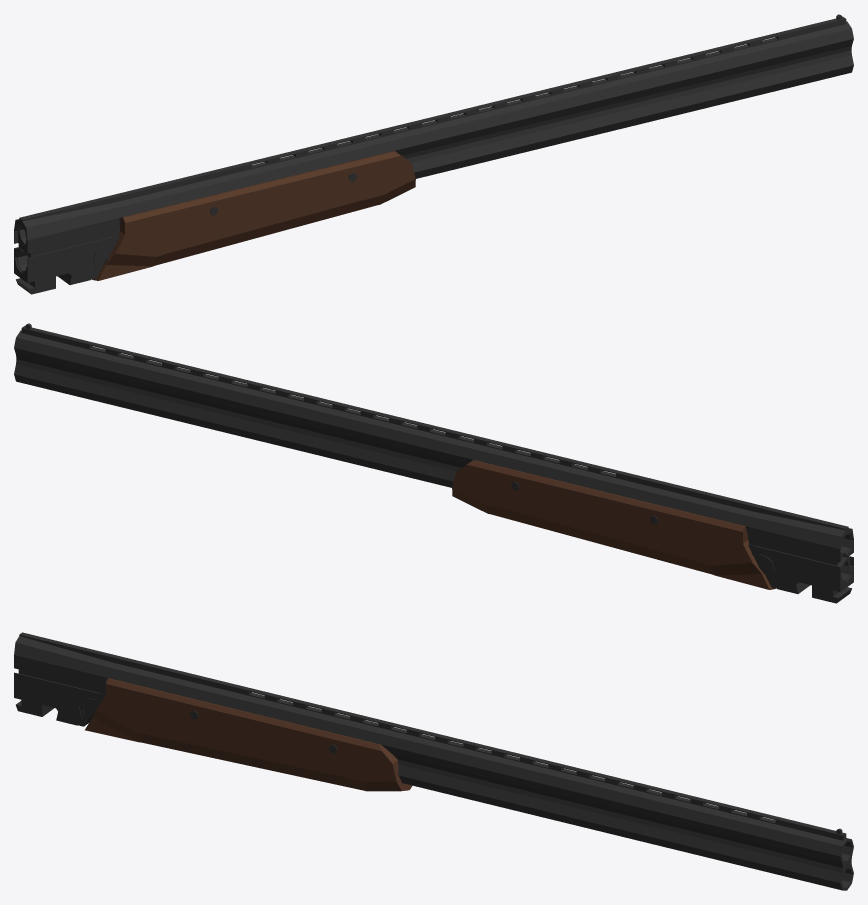
The model's file is toz-34_barrel.glb.
3 views of the same model, one above another, from view 1: azimuth 30°, elevation 25°; view 2: azimuth 150°, elevation 25°; view 3: azimuth 330°, elevation 25° (orthographic).
Parts seen in each view (by area): view 1: toz34 barrels_2 (×3); view 2: toz34 barrels_2 (×3); view 3: toz34 barrels_2 (×3).
Boxes of the visible parts, <box> form: toz34 barrels_2 (×3): <box>14,14,853,294</box>; toz34 barrels_2 (×3): <box>14,323,853,603</box>; toz34 barrels_2 (×3): <box>14,632,853,890</box>.
Bounding box in the file's own units: 11.44 × 1.09 × 0.484.
